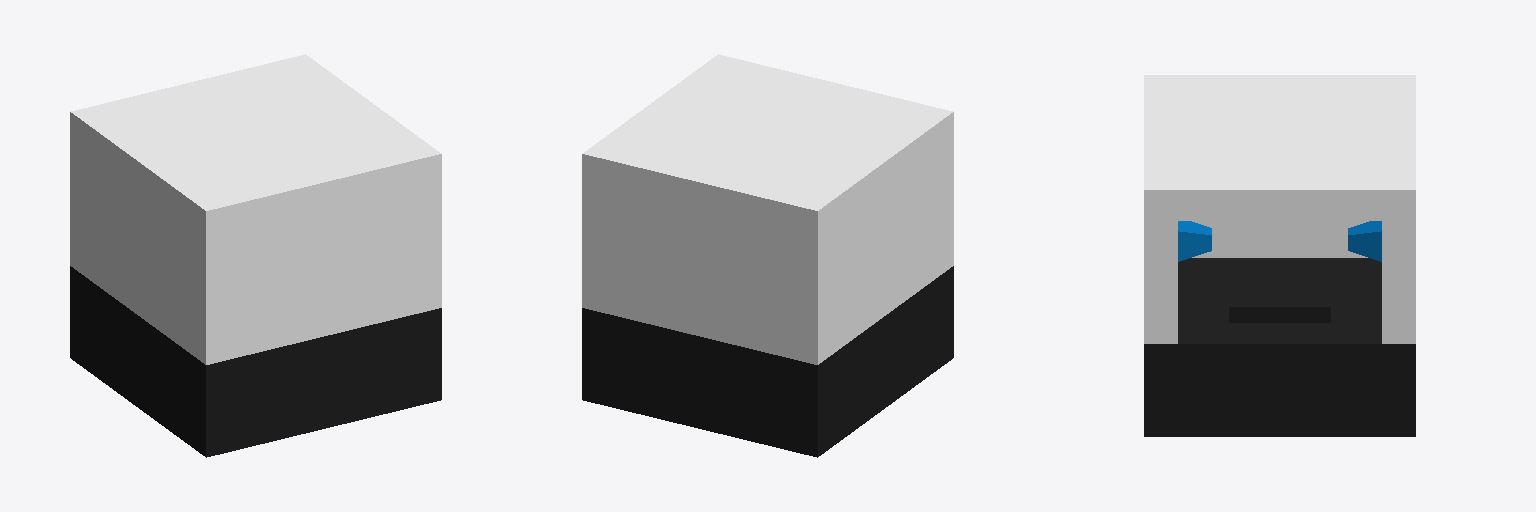
File: redstone_energy_generator.obj
3 renders of one model, left to right at view 1: azimuth 30°, elevation 25°; view 2: azimuth 150°, elevation 25°; view 3: azimuth 270°, elevation 25°, orthographic.
Visible parts, largest first — view 1: Cube; view 2: Cube; view 3: Cube.
Boxes of the visible parts, box(x1,y1,x2,y2) form: Cube: box(70, 54, 441, 457); Cube: box(582, 54, 953, 457); Cube: box(1144, 75, 1415, 436).
Size of the model in its own units: 1 by 1 by 1.